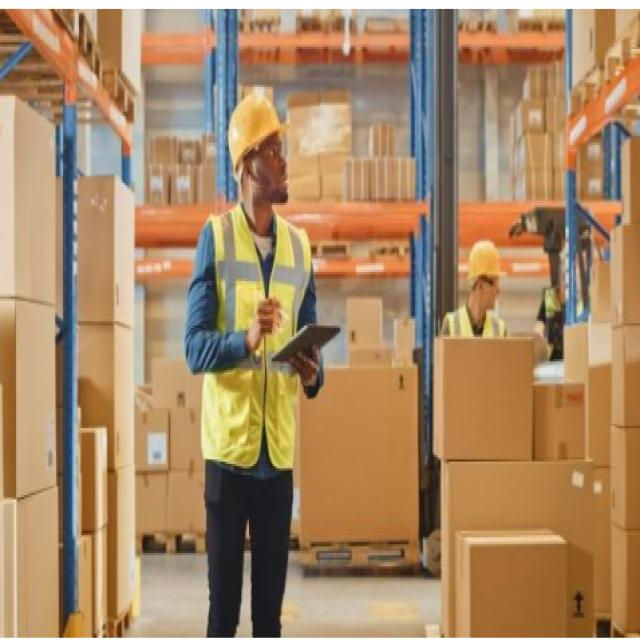helmet: (224, 86, 296, 209), (464, 233, 504, 316)
vest: (198, 201, 313, 480), (443, 302, 510, 448)
